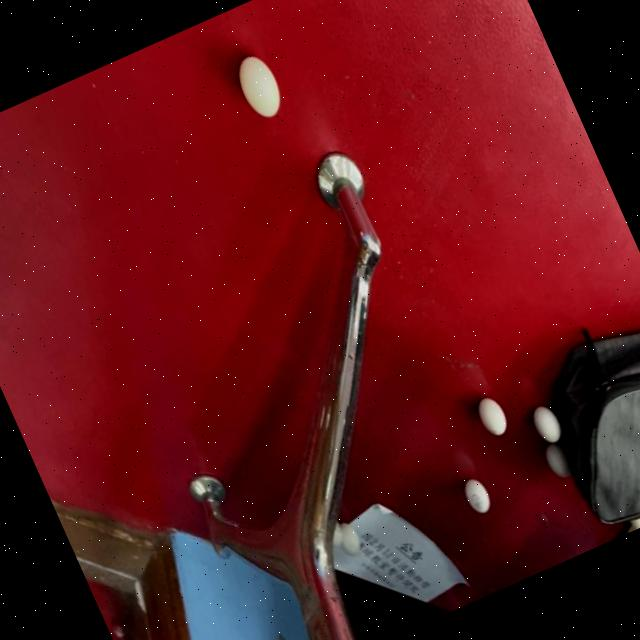ping-pong-ball: (224, 45, 293, 132), (522, 394, 569, 454), (467, 388, 515, 446), (456, 469, 498, 524), (328, 516, 368, 566)
